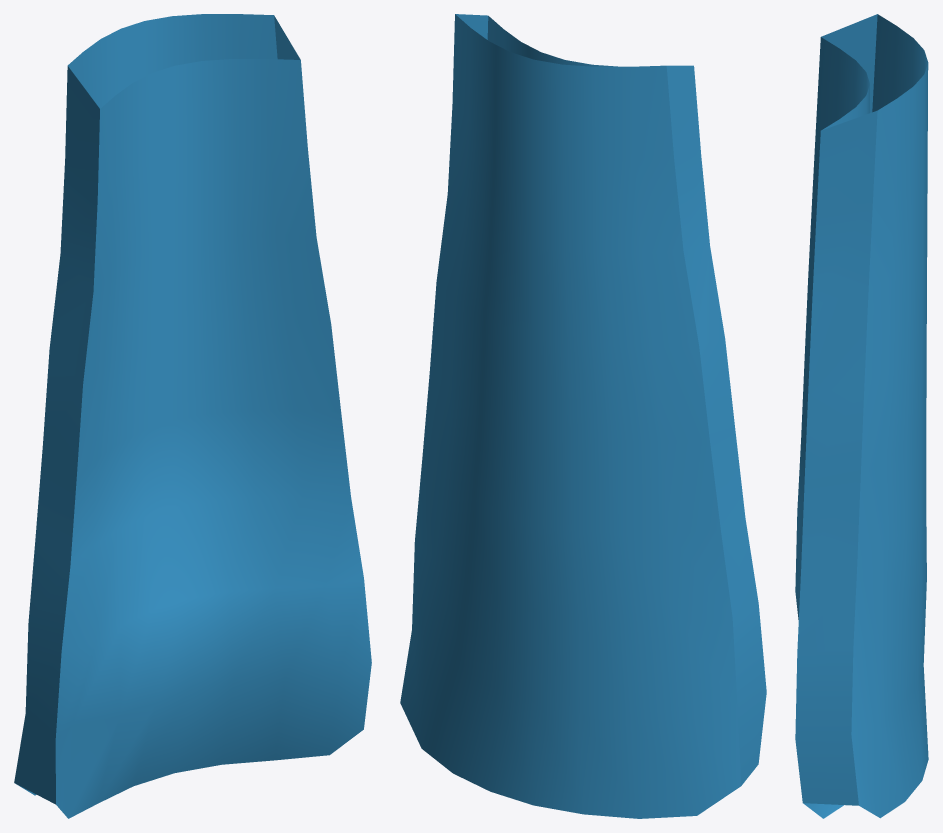
File: WaterfallFoam.fbx
3 views of the same model, side by side, from view 1: azimuth 30°, elevation 25°; view 2: azimuth 150°, elevation 25°; view 3: azimuth 270°, elevation 25° (orthographic). The views are drawn at different scales.
Visible parts, largest first — view 1: WaterfallFoam; view 2: WaterfallFoam; view 3: WaterfallFoam.
Boxes of the visible parts, x1,y1,x2,y2 form: WaterfallFoam: (14, 14, 371, 818); WaterfallFoam: (400, 14, 766, 818); WaterfallFoam: (795, 14, 928, 818).
Size of the model in its own units: 564 by 1181 by 204.
